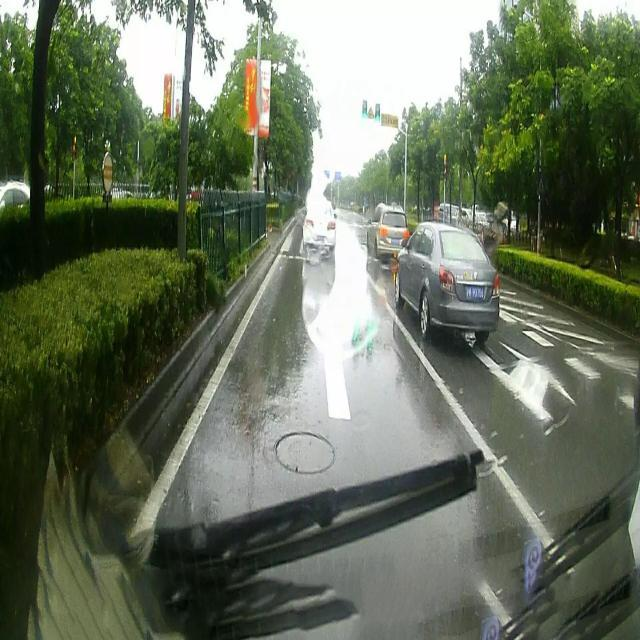car: (394, 220, 501, 342), (364, 201, 410, 263), (302, 198, 336, 258), (0, 174, 30, 216)
